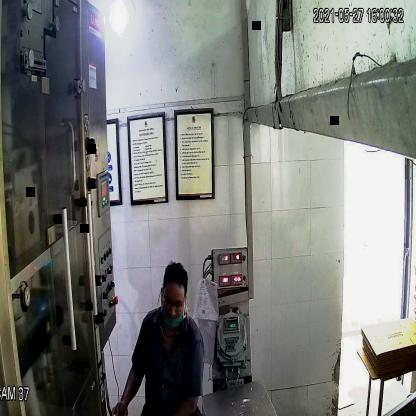goggles: (159, 289, 189, 317)
